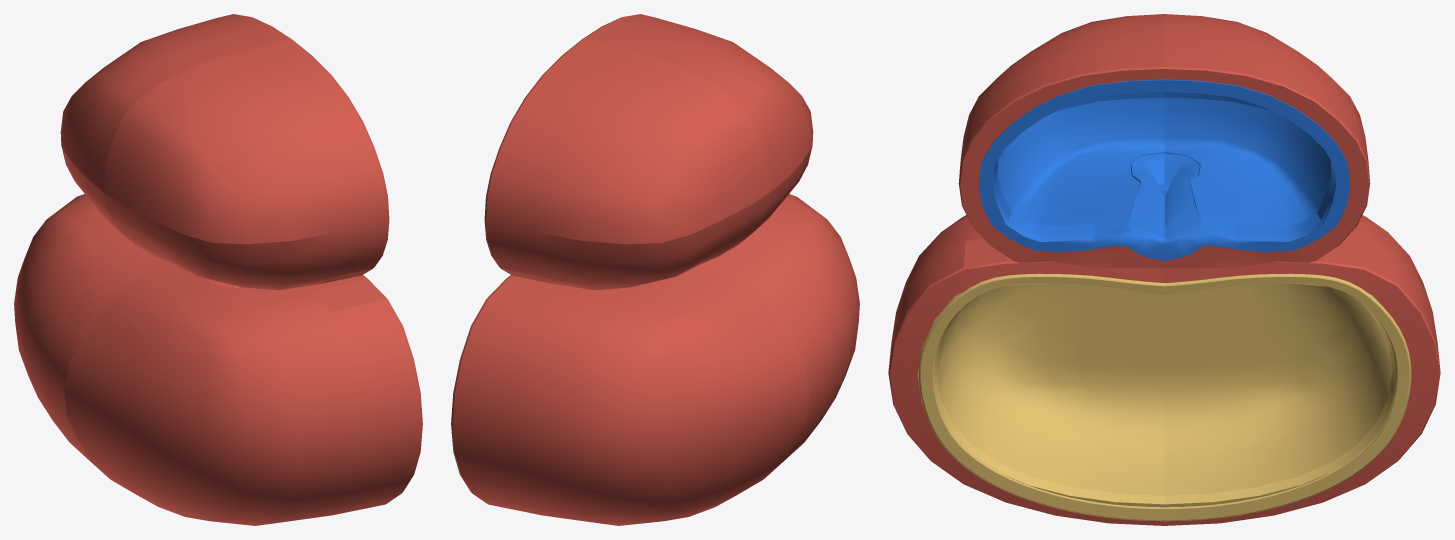
Rendered from Disco_Trilaminar.fbx.
3 renders of one model, left to right at view 1: azimuth 30°, elevation 25°; view 2: azimuth 150°, elevation 25°; view 3: azimuth 270°, elevation 25°, orthographic. The views are drawn at different scales.
Parts seen in each view (by area): view 1: pCube2_DUP15; view 2: pCube2_DUP15; view 3: pCube2_DUP15.
Part boxes in pixels (box(x1,y1,x2,y2)): pCube2_DUP15: box(14, 14, 422, 525); pCube2_DUP15: box(451, 14, 859, 525); pCube2_DUP15: box(888, 14, 1440, 525).
Bounding box in the file's own units: 12.05 × 21.34 × 23.27.
